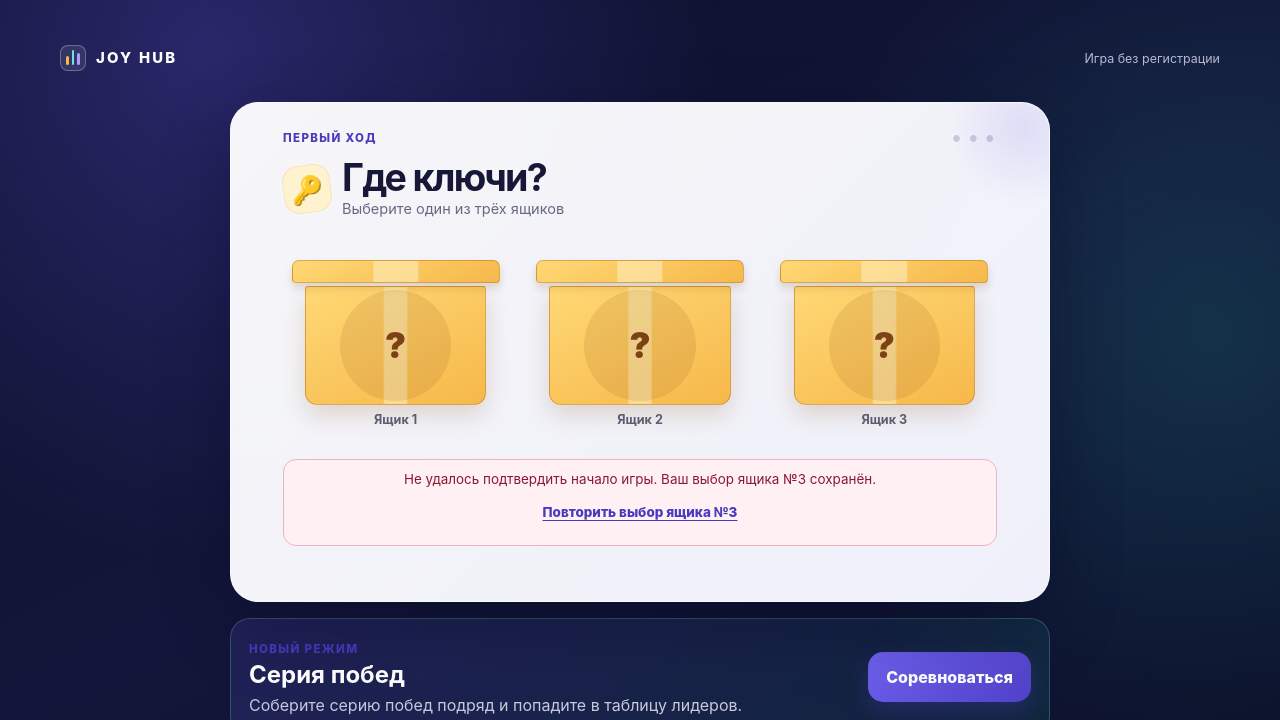
Scenario: Monty Hall application › restores a pending create from sessionStorage after a tab reload
This screenshot has width=1280, height=720.
Check: the text "Не удалось подтвердить начало игры. Ваш выбор ящика №3 сохранён." is shown, box [404,471,876,487]
Check: the button named "Выбрать ящик 1" is disabled, box [281,242,510,409]
Click the button "Повторить выбор ящика №3". click: (640, 512)
box: [534,490,746,534]
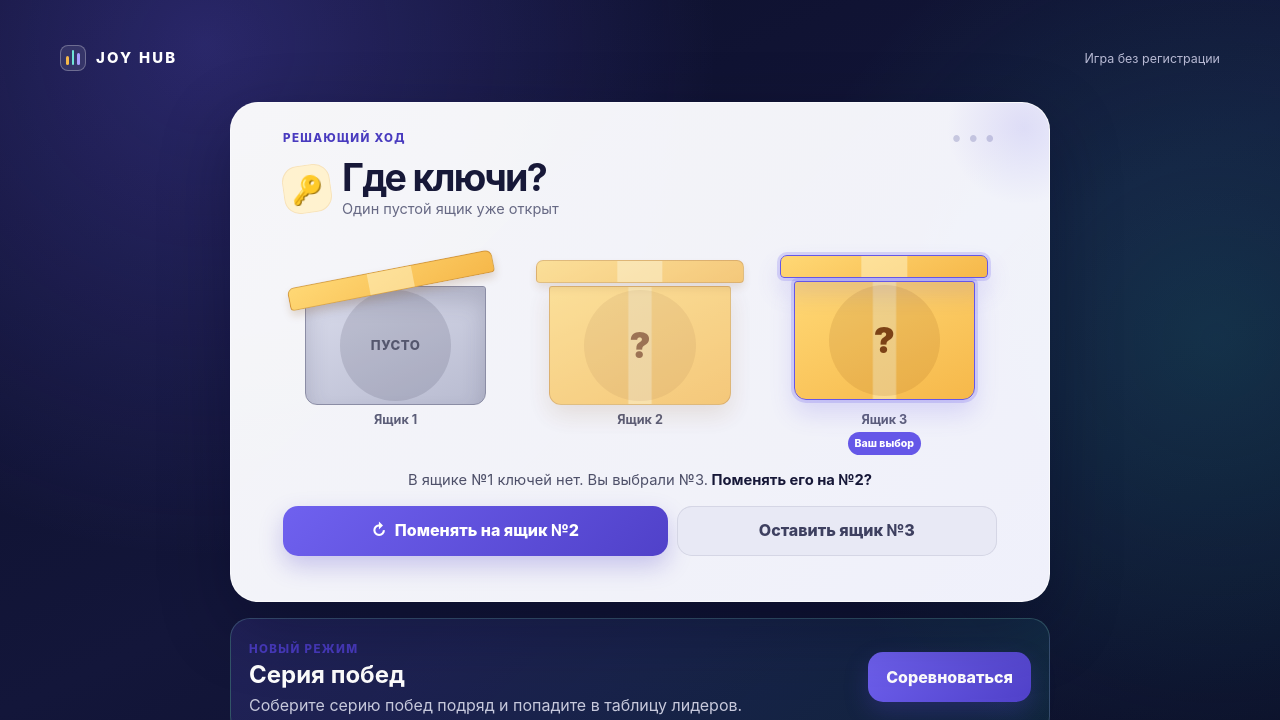
Check: the button "↻ Поменять на ящик №2" is enabled, box [283,506,668,556]
